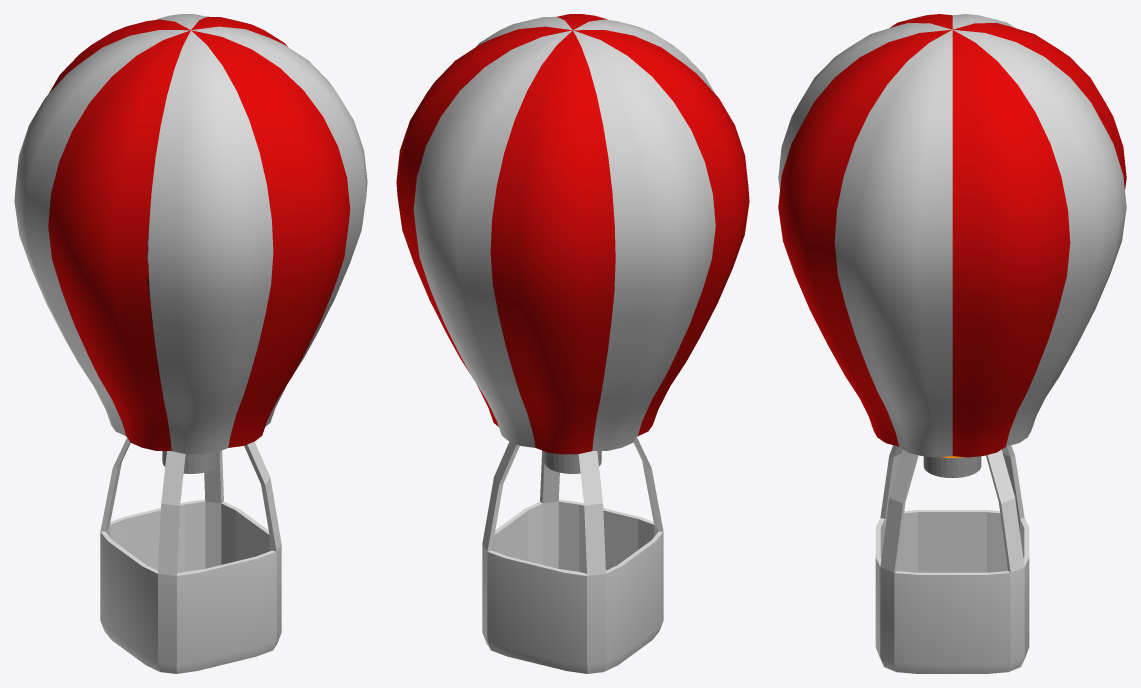
File: hotAirBalloon.FBX
The picture shows the model from 3 angles, left to right: view 1: azimuth 30°, elevation 25°; view 2: azimuth 150°, elevation 25°; view 3: azimuth 270°, elevation 25°; orthographic projection.
Parts seen in each view (by area): view 1: Sphere001, Box001; view 2: Sphere001, Box001; view 3: Sphere001, Box001.
Part boxes in pixels (x1,y1,x2,y2): Sphere001: (14,14,367,473); Box001: (100,438,281,673); Sphere001: (396,14,749,473); Box001: (482,437,663,673); Sphere001: (778,14,1126,477); Box001: (875,445,1029,673).
Bounding box in the file's own units: 45.39 × 88.67 × 45.39.
1 material, 1 textured.
